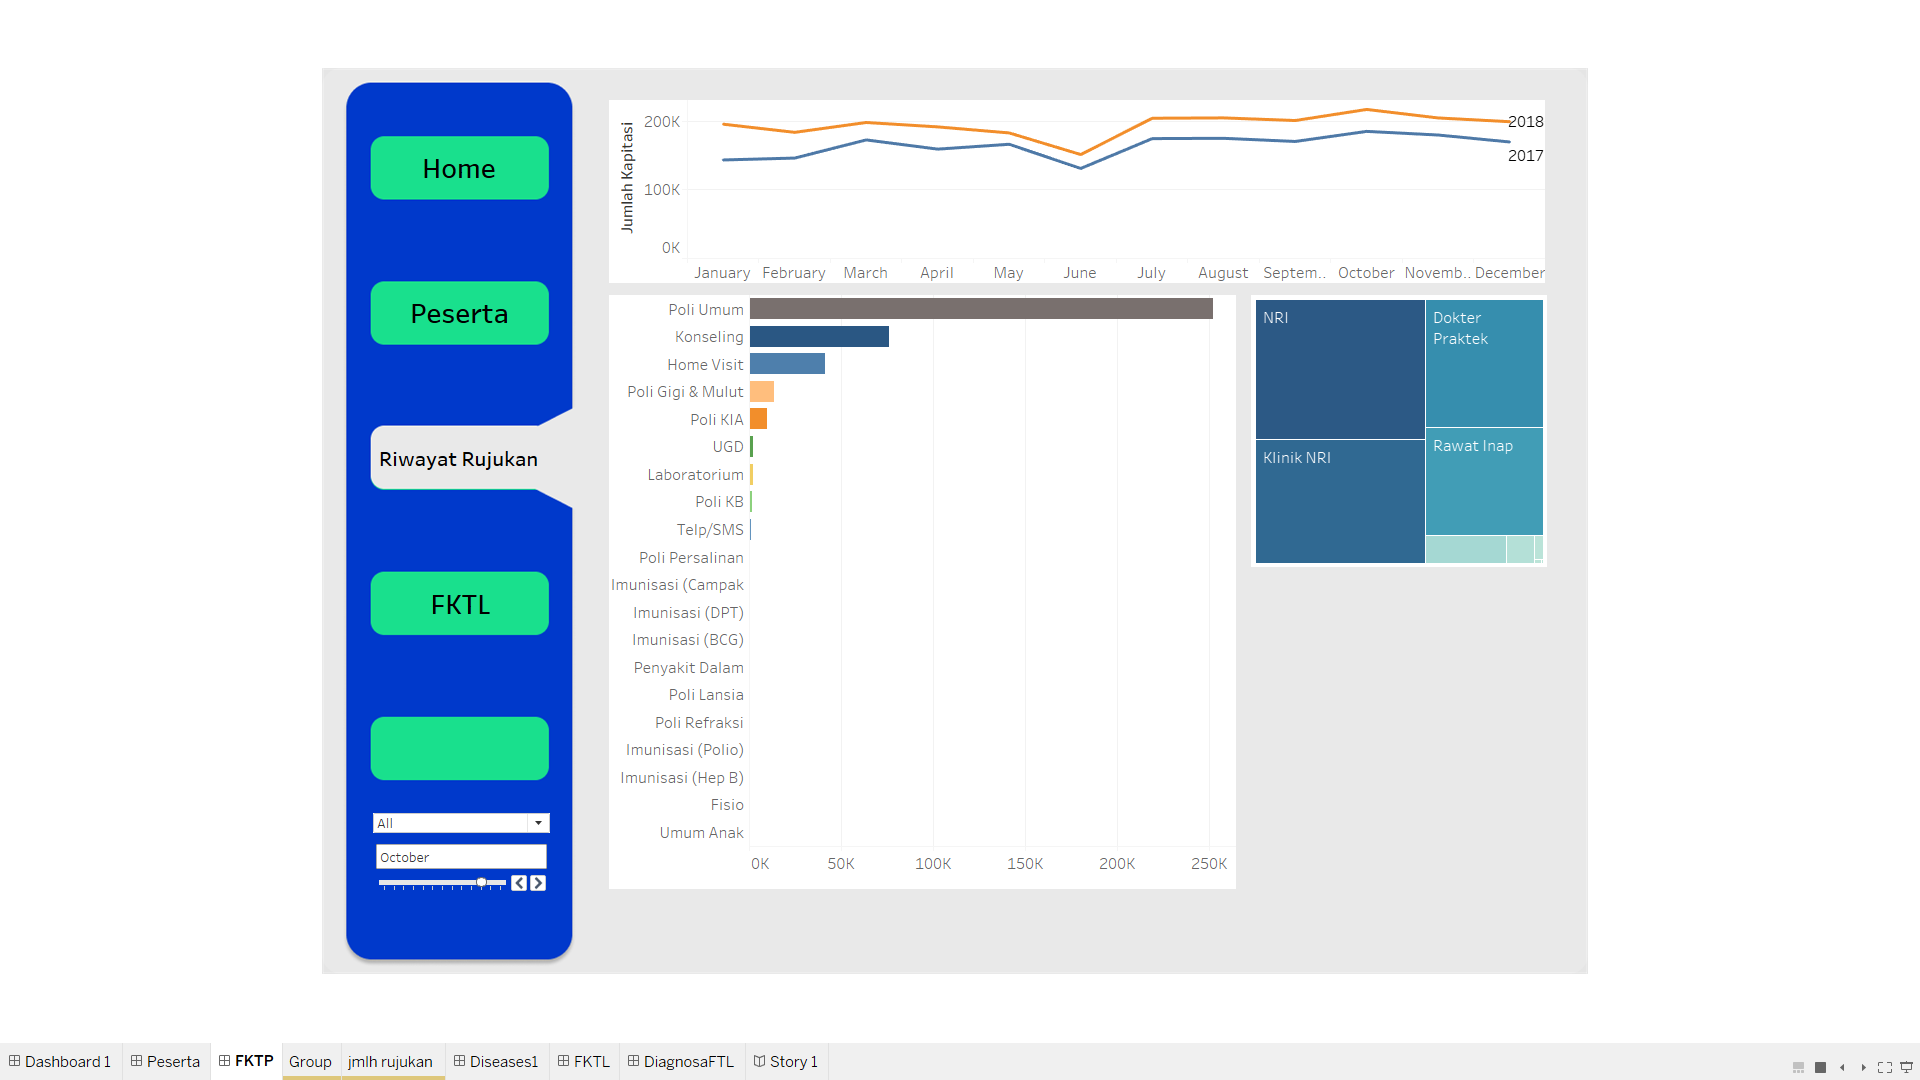

What the dashboard file says about the page in this screenshot:
{"tool":"tableau","page":{"name":"FKTP","canvas":[1300,930],"ordinal":4},"visuals":[{"type":"image","param":"C:/Users/fikri/Desktop/pyproj/drive-download-20201208T124209Z-001/New folder/6.p","box":[8,8,1284,914]},{"type":"worksheet","title":"jumlah rujukan","mark":"Automatic","rows":["FKP02"],"cols":["FKP04"],"box":[299,44,936,183]},{"type":"dashboard-object","box":[60,75,178,72]},{"type":"text","box":[60,79,178,64]},{"type":"text","box":[60,224,179,64]},{"type":"dashboard-object","box":[62,225,177,66]},{"type":"worksheet","title":"Poli","mark":"Automatic","rows":["FKP11"],"cols":["FKP02"],"box":[299,239,627,271]},{"type":"worksheet","title":"Kunjungan","mark":"Automatic","box":[941,239,296,272]},{"type":"dashboard-object","box":[61,368,171,69]},{"type":"text","box":[61,370,175,64]},{"type":"dashboard-object","box":[59,512,181,69]},{"type":"text","box":[260,513,1016,66]},{"type":"text","box":[62,516,177,63]},{"type":"worksheet","title":"jmlh rujukan","mark":"Automatic","rows":["PNK02"],"cols":["PNK03"],"box":[298,581,628,309]},{"type":"worksheet","title":"Group","mark":"Automatic","cols":["PNK02"],"box":[952,582,306,308]},{"type":"text","box":[58,660,182,64]},{"type":"parameter","param":"[Parameters].[Parameter 1]","box":[60,754,183,66]}]}

Visuals, with their boxes on the page's 1300x930 design canvas (x1, y1, x2, y2). These are canvas units, not pixel positions in the 1920x1080 screenshot, which may show the page scaled, cropped or inside an application window:
image: bbox=(8, 8, 1292, 922)
"jumlah rujukan" worksheet: bbox=(299, 44, 1235, 227)
dashboard-object: bbox=(60, 75, 238, 147)
text: bbox=(60, 79, 238, 143)
text: bbox=(60, 224, 239, 288)
dashboard-object: bbox=(62, 225, 239, 291)
"Poli" worksheet: bbox=(299, 239, 926, 510)
"Kunjungan" worksheet: bbox=(941, 239, 1237, 511)
dashboard-object: bbox=(61, 368, 232, 437)
text: bbox=(61, 370, 236, 434)
dashboard-object: bbox=(59, 512, 240, 581)
text: bbox=(260, 513, 1276, 579)
text: bbox=(62, 516, 239, 579)
"jmlh rujukan" worksheet: bbox=(298, 581, 926, 890)
"Group" worksheet: bbox=(952, 582, 1258, 890)
text: bbox=(58, 660, 240, 724)
parameter: bbox=(60, 754, 243, 820)
